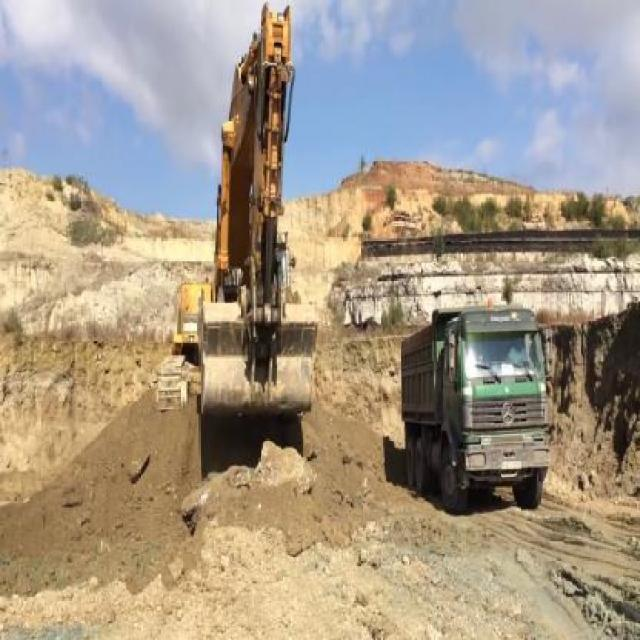Dump Truck: (401, 301, 553, 517)
Excavator: (146, 0, 322, 429)
